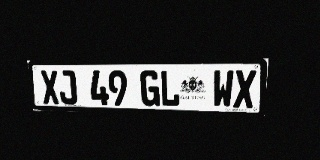4: (89, 70, 109, 105)
9: (108, 70, 128, 106)
G: (140, 70, 160, 106)
J: (57, 70, 78, 105)
L: (160, 70, 180, 107)
W: (212, 70, 234, 108)
X: (233, 70, 256, 108), (40, 70, 60, 104)
